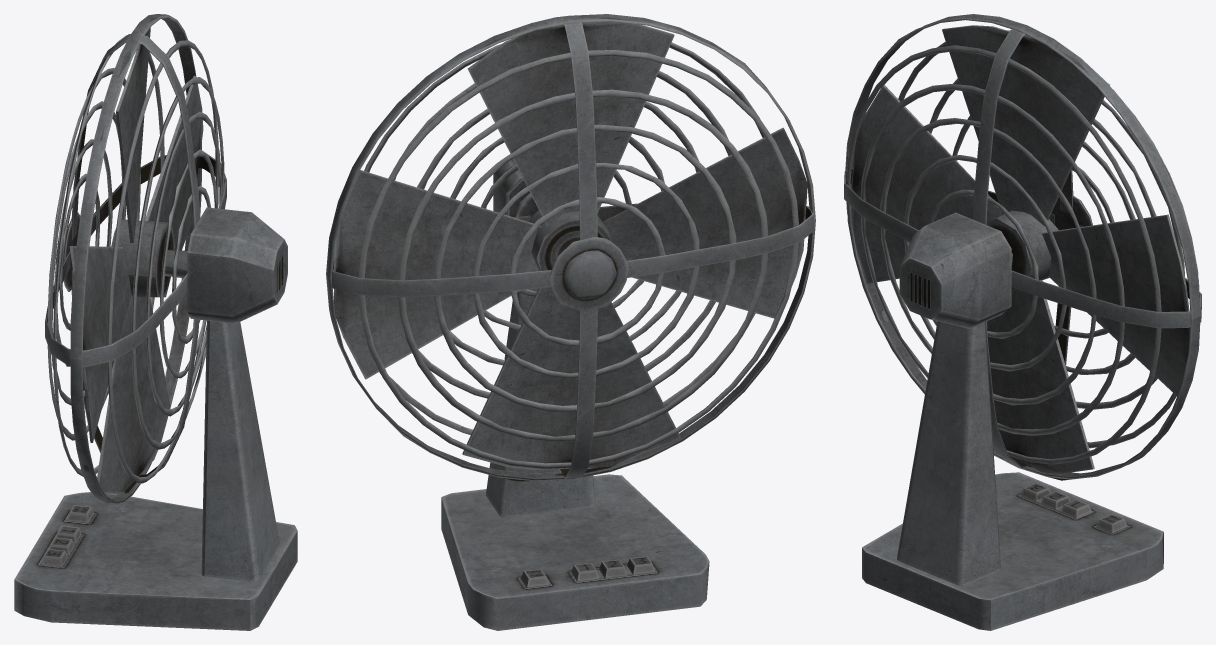
Rendered from ventilador.glb.
The picture shows the model from 3 angles, left to right: view 1: azimuth 30°, elevation 25°; view 2: azimuth 150°, elevation 25°; view 3: azimuth 270°, elevation 25°; orthographic projection. The views are drawn at different scales.
Parts seen in each view (by area): view 1: ENV_MOD_Desk_Fan_Base, ENV_MOD_Desk_Fan_Fanblade; view 2: ENV_MOD_Desk_Fan_Base, ENV_MOD_Desk_Fan_Fanblade; view 3: ENV_MOD_Desk_Fan_Base, ENV_MOD_Desk_Fan_Fanblade.
Part boxes in pixels (x1,y1,x2,y2): ENV_MOD_Desk_Fan_Base: [14, 14, 297, 630]; ENV_MOD_Desk_Fan_Fanblade: [69, 27, 203, 493]; ENV_MOD_Desk_Fan_Base: [326, 14, 815, 630]; ENV_MOD_Desk_Fan_Fanblade: [333, 21, 807, 470]; ENV_MOD_Desk_Fan_Base: [844, 14, 1201, 630]; ENV_MOD_Desk_Fan_Fanblade: [851, 25, 1189, 473].
Size of the model in its own units: 0.2841 by 0.482 by 0.2904.
Materials: 2 (2 with a texture image).
